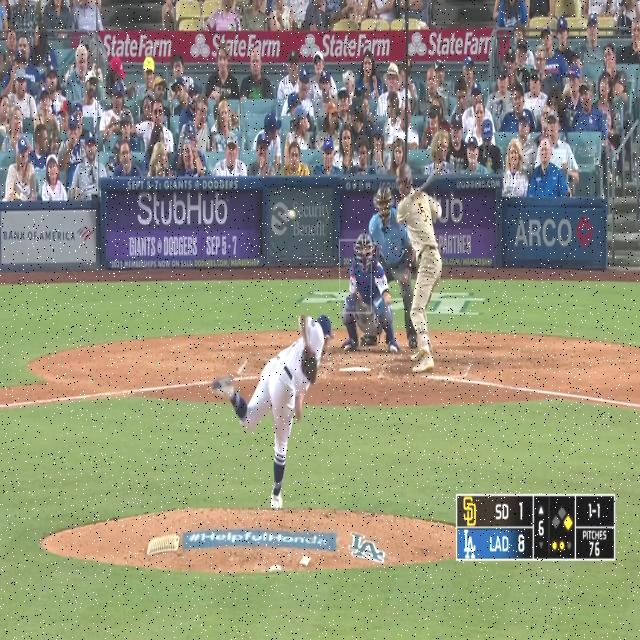baseball: (288, 209, 296, 221)
